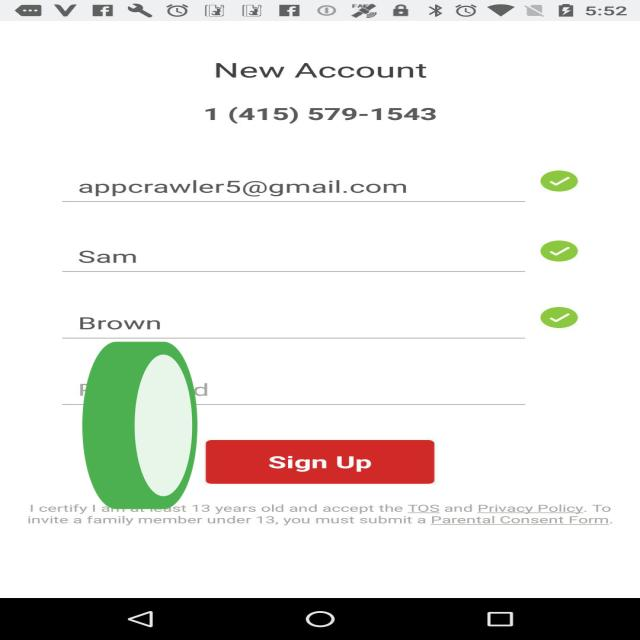social proof: (77, 278, 203, 586)
